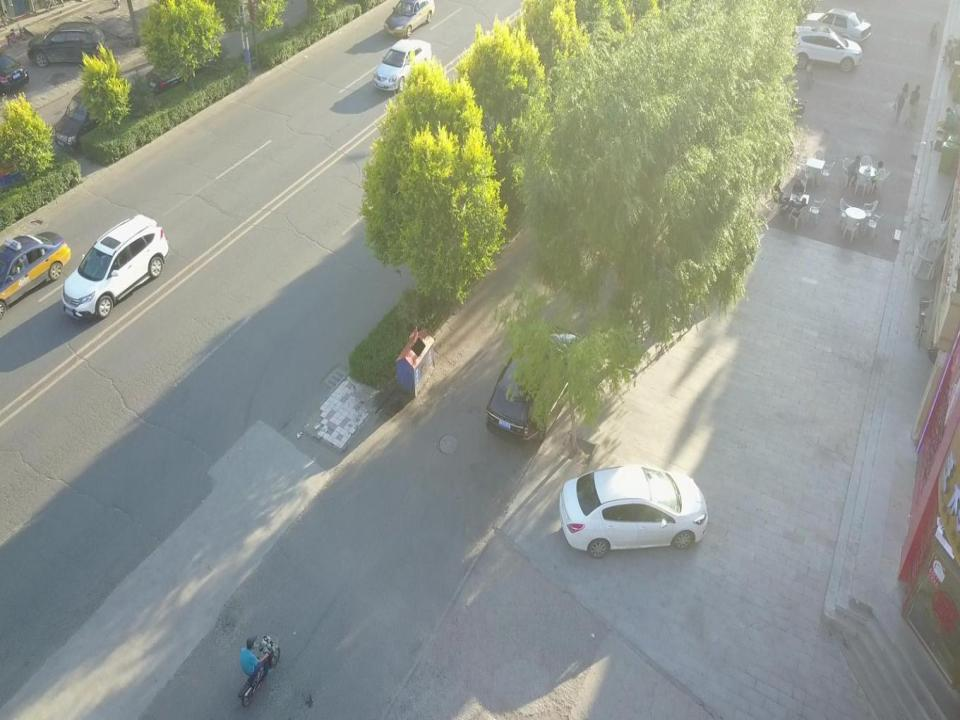car: (559, 462, 710, 559), (485, 321, 592, 442), (61, 212, 170, 319), (0, 229, 72, 312), (52, 77, 128, 153), (784, 23, 862, 74), (28, 22, 106, 68), (146, 47, 218, 94), (372, 38, 433, 93), (802, 8, 871, 48), (384, 0, 435, 38), (0, 52, 29, 95)
